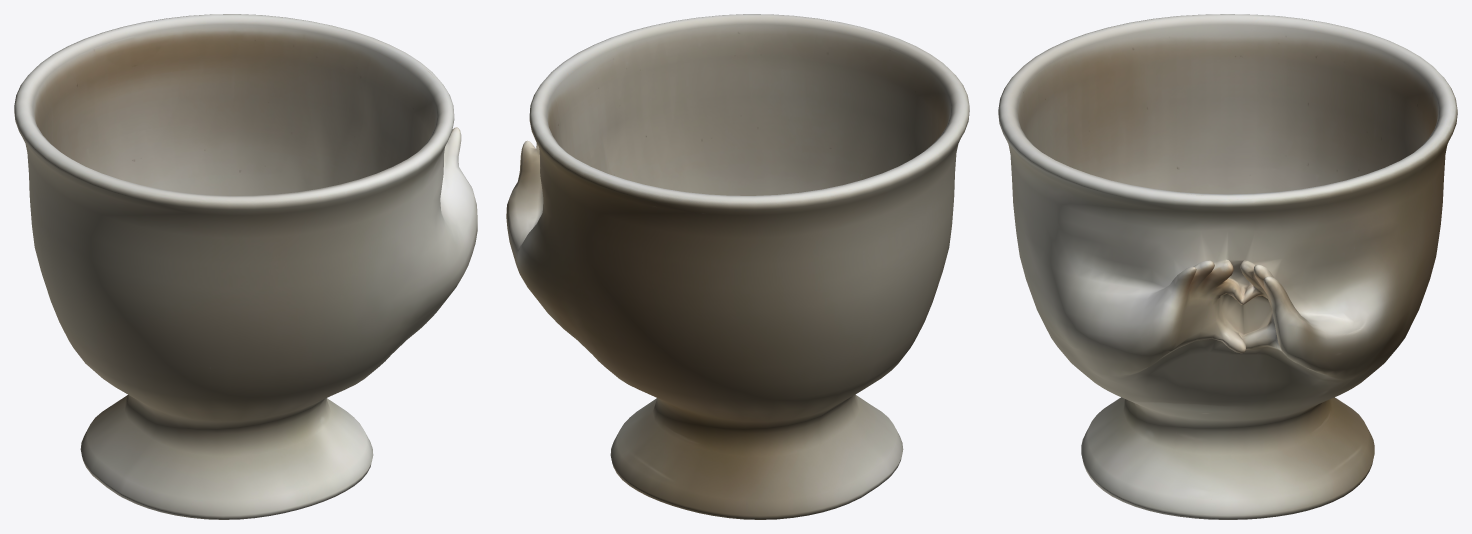
The model's file is 白色陶瓷杯 3d模型.glb.
3 renders of one model, left to right at view 1: azimuth 30°, elevation 25°; view 2: azimuth 150°, elevation 25°; view 3: azimuth 270°, elevation 25°, orthographic. The views are drawn at different scales.
Parts seen in each view (by area): view 1: tripo_05a6dc54_21e5_47e7_87cd_12151469f775; view 2: tripo_05a6dc54_21e5_47e7_87cd_12151469f775; view 3: tripo_05a6dc54_21e5_47e7_87cd_12151469f775.
Boxes of the visible parts, left/top/right/bottom form: tripo_05a6dc54_21e5_47e7_87cd_12151469f775: left=14, top=14, right=477, bottom=519; tripo_05a6dc54_21e5_47e7_87cd_12151469f775: left=506, top=14, right=969, bottom=519; tripo_05a6dc54_21e5_47e7_87cd_12151469f775: left=998, top=14, right=1457, bottom=519.
Bounding box in the file's own units: 0.9995 × 0.8442 × 0.9819.
1 material, 1 textured.
